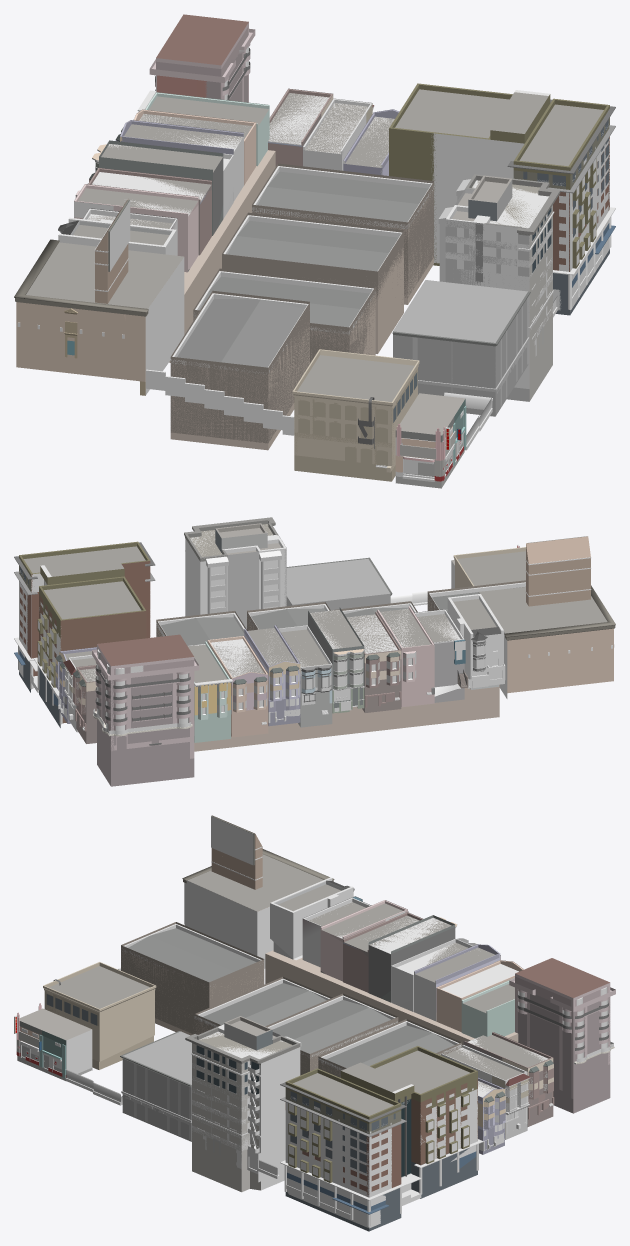
Rendered from city_block5.dae.
3 renders of one model, top to bottom at view 1: azimuth 30°, elevation 25°; view 2: azimuth 150°, elevation 25°; view 3: azimuth 270°, elevation 25°, orthographic. The views are drawn at different scales.
Parts seen in each view (by area): view 1: city_block5_a2000, city_block5_a3000; view 2: city_block5_a2000, city_block5_a3000; view 3: city_block5_a2000, city_block5_a3000.
Part boxes in pixels (box(x1,y1,x2,y2)): city_block5_a2000: box(14, 14, 615, 488); city_block5_a3000: box(17, 26, 615, 481); city_block5_a2000: box(14, 517, 615, 786); city_block5_a3000: box(14, 525, 614, 758); city_block5_a2000: box(16, 816, 615, 1231); city_block5_a3000: box(14, 815, 615, 1228).
Size of the model in its own units: 154 by 154 by 57.12.
